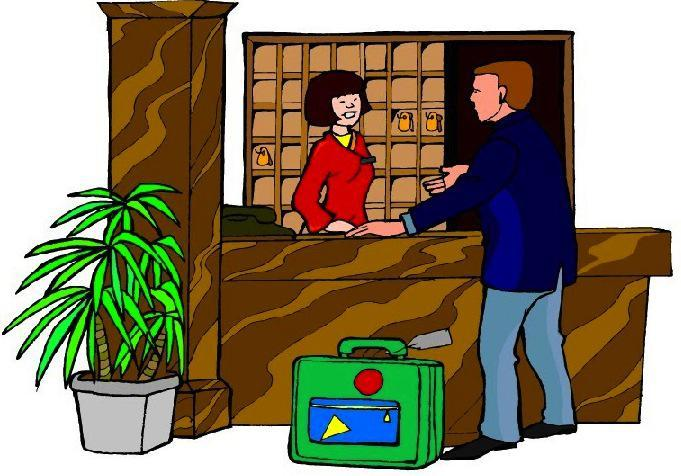person: (441, 53, 596, 456), (284, 68, 376, 230)
pottedplant: (31, 172, 185, 458)
